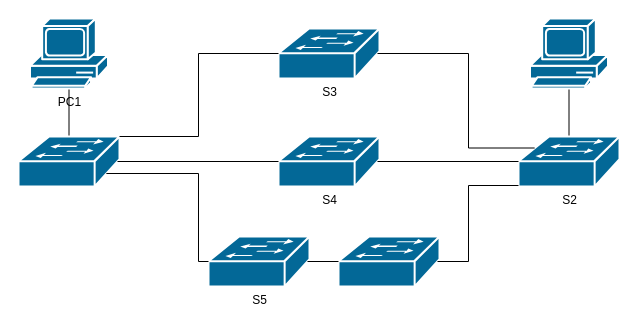
Some shapes in this 637 by 324 pixel diagram are drawn without their labels. Each missing label, with the centre of its shape:
PC2: the point at 568,53
S1: the point at 68,161
S6: the point at 388,261
